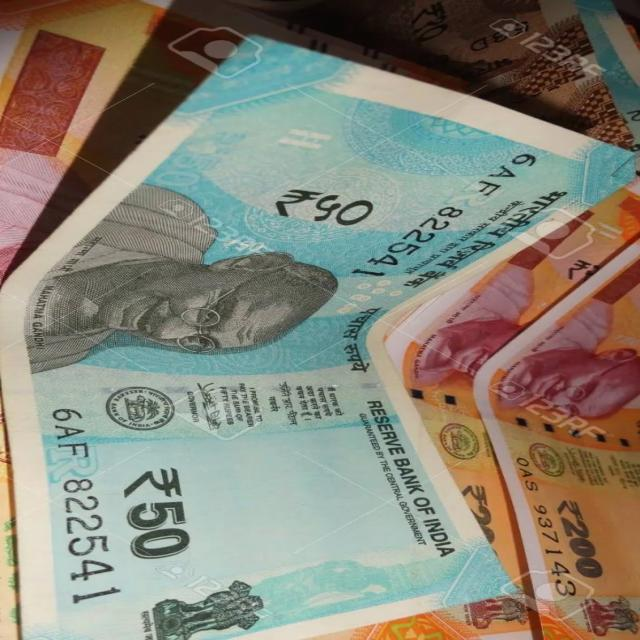50IndianRupees: (0, 33, 640, 640)
